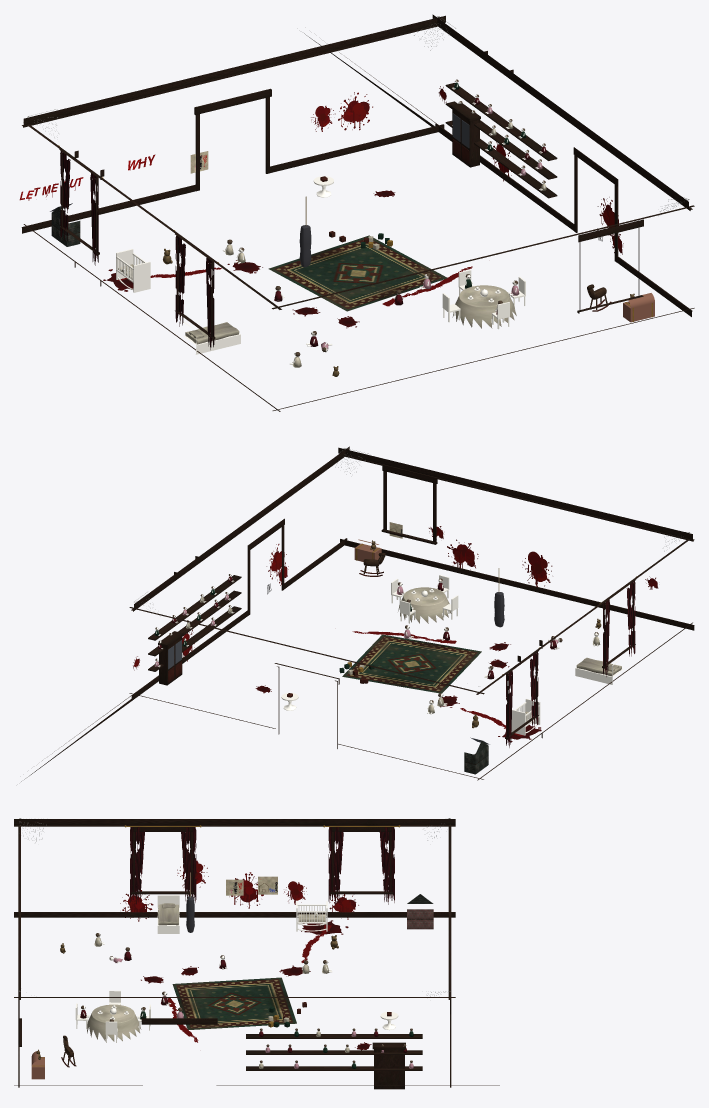
The model's file is dark_nursery_v13.glb.
3 views of the same model, one above another, from view 1: azimuth 30°, elevation 25°; view 2: azimuth 150°, elevation 25°; view 3: azimuth 270°, elevation 25° (orthographic). The views are drawn at different scales.
Visible parts, largest first — view 1: dark_nursery; view 2: dark_nursery; view 3: dark_nursery.
Boxes of the visible parts, left/top/right/bottom form: dark_nursery: left=19, top=14, right=694, bottom=411; dark_nursery: left=21, top=446, right=694, bottom=781; dark_nursery: left=14, top=818, right=499, bottom=1089.
Size of the model in its own units: 19.34 by 5.24 by 30.84.
34 materials, 26 textured.
